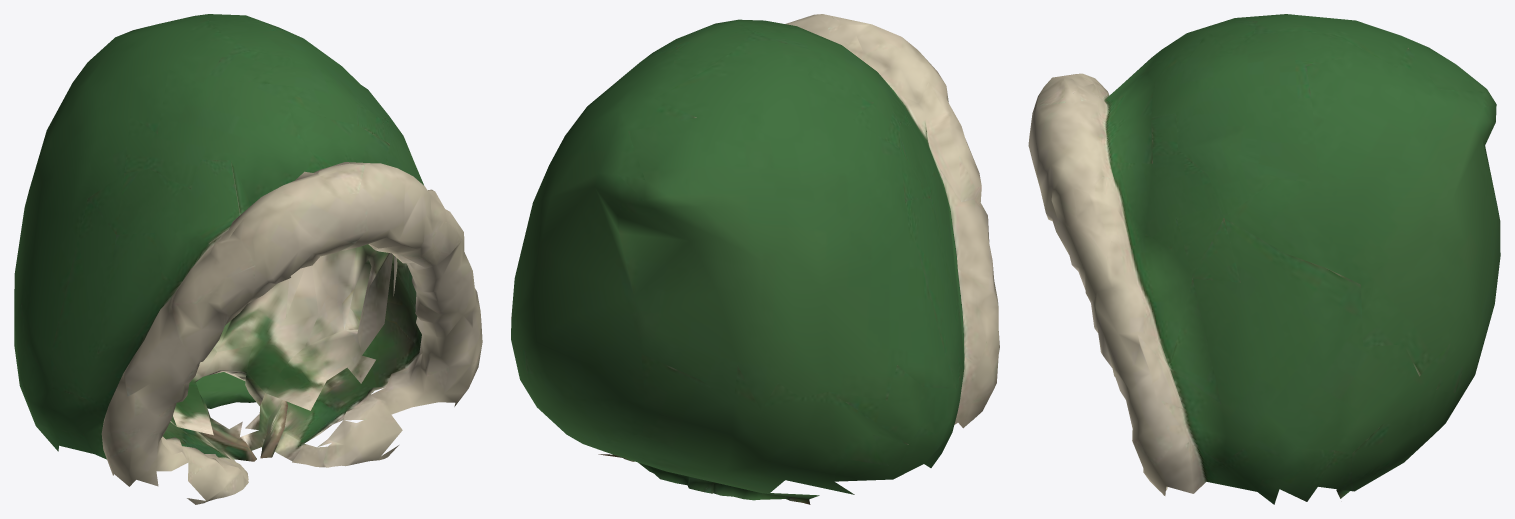
Rendered from wardenstalker_hood.glb.
3 views of the same model, side by side, from view 1: azimuth 30°, elevation 25°; view 2: azimuth 150°, elevation 25°; view 3: azimuth 270°, elevation 25° (orthographic). The views are drawn at different scales.
Parts seen in each view (by area): view 1: Mesh_0; view 2: Mesh_0; view 3: Mesh_0.
Part boxes in pixels (x1,y1,x2,y2): Mesh_0: (14,14,482,504); Mesh_0: (511,14,999,504); Mesh_0: (1028,14,1500,504).
Size of the model in its own units: 0.3274 by 0.3178 by 0.326.
Materials: 1 (1 with a texture image).
